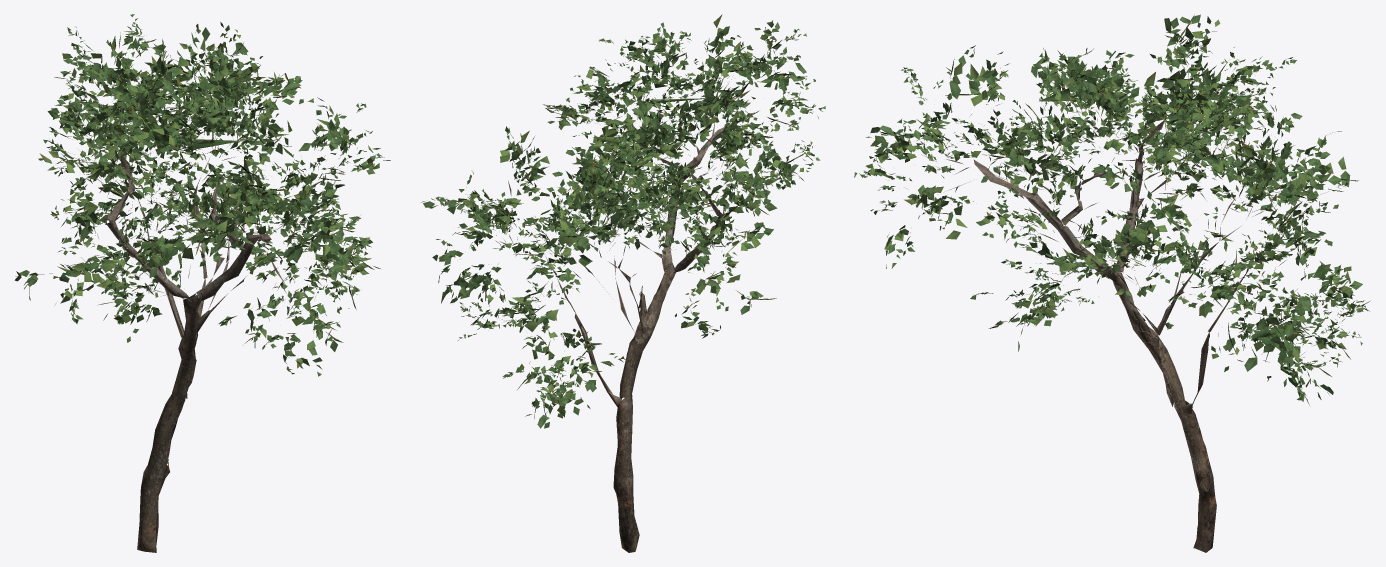
Rendered from ph_tree_small_02_lod1.glb.
3 views of the same model, side by side, from view 1: azimuth 30°, elevation 25°; view 2: azimuth 150°, elevation 25°; view 3: azimuth 270°, elevation 25° (orthographic). The views are drawn at different scales.
Visible parts, largest first — view 1: ph_tree_small_02_lod1; view 2: ph_tree_small_02_lod1; view 3: ph_tree_small_02_lod1.
Boxes of the visible parts, <box> form: ph_tree_small_02_lod1: <box>14,14,390,552</box>; ph_tree_small_02_lod1: <box>421,14,825,552</box>; ph_tree_small_02_lod1: <box>854,14,1369,552</box>.
Bounding box in the file's own units: 2.91 × 4.57 × 4.26.
Materials: 3 (3 with a texture image).
